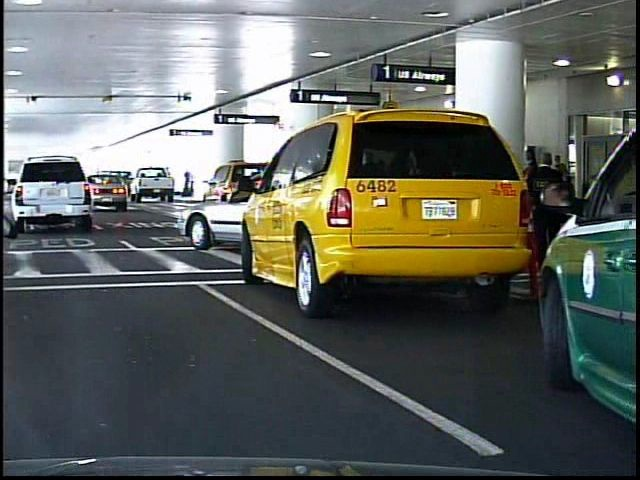person: (524, 149, 569, 278), (510, 146, 539, 258), (187, 168, 194, 197)
